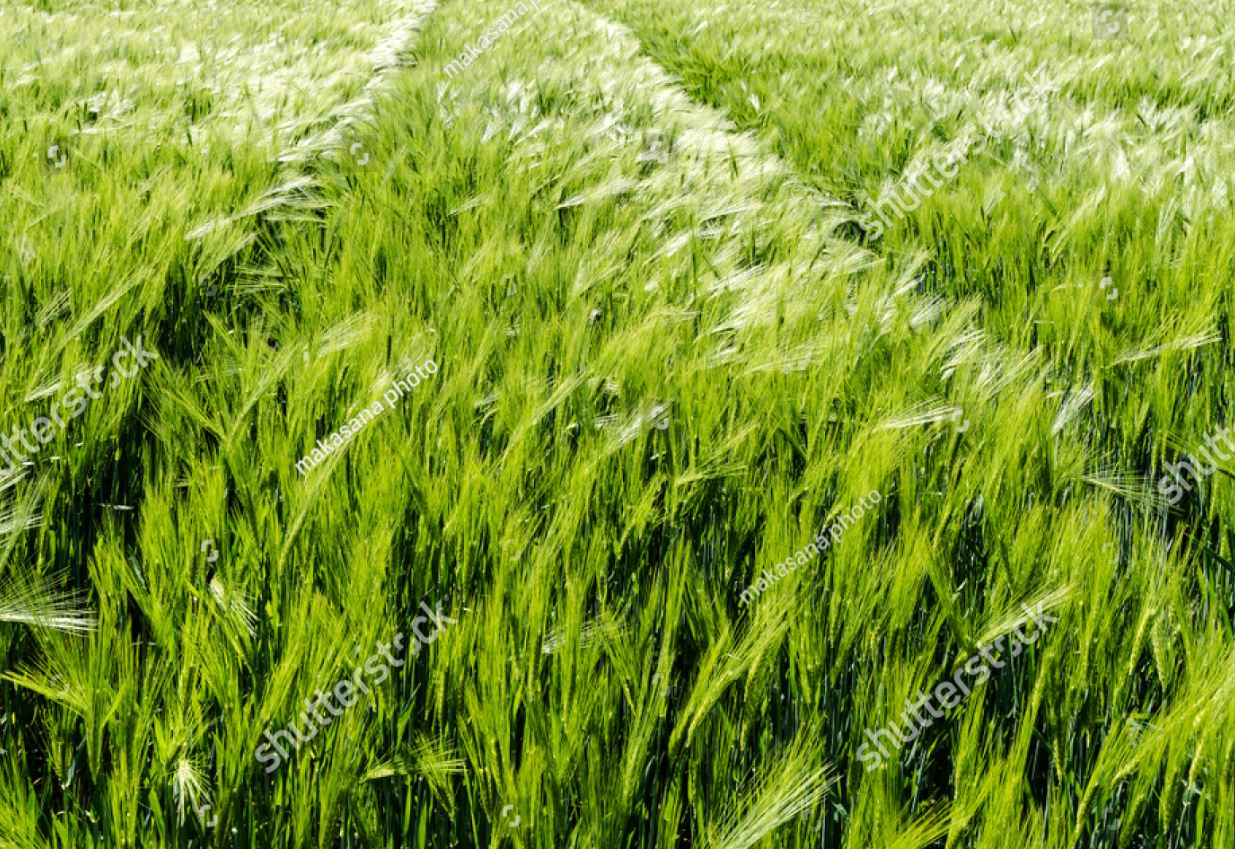Wheat: (507, 101, 917, 517)
